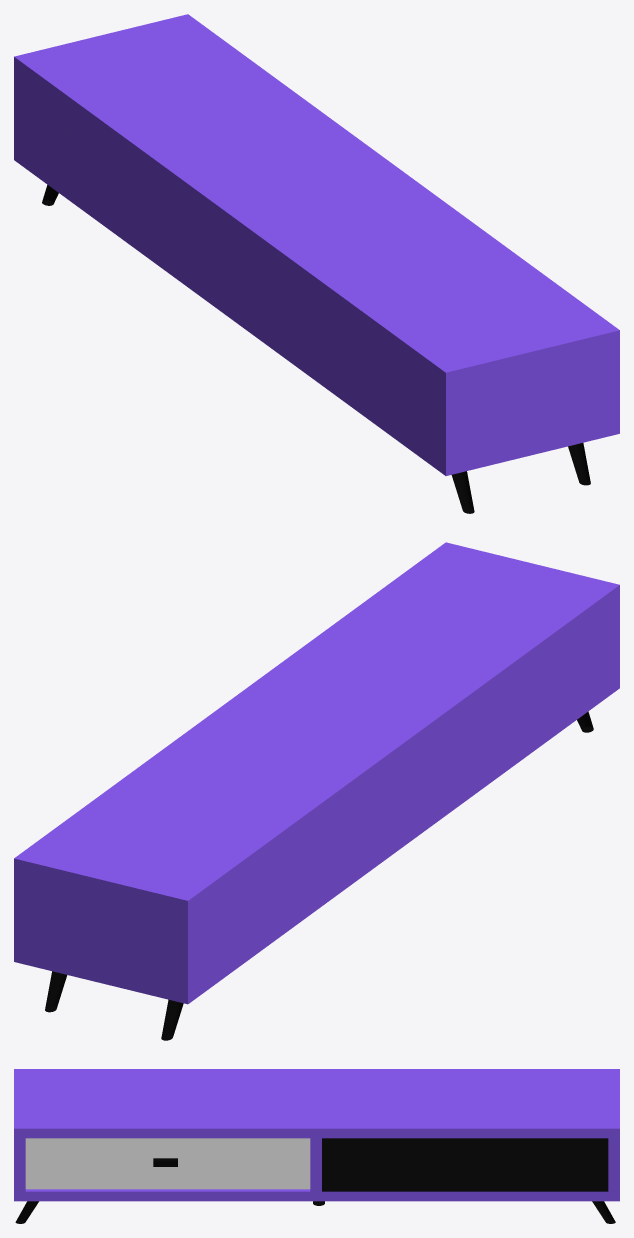
The model's file is tv_table.glb.
3 views of the same model, one above another, from view 1: azimuth 30°, elevation 25°; view 2: azimuth 150°, elevation 25°; view 3: azimuth 270°, elevation 25° (orthographic). The views are drawn at different scales.
Parts seen in each view (by area): view 1: TV table; view 2: TV table; view 3: TV table.
Part boxes in pixels (<box>): TV table: <box>14,14,619,513</box>; TV table: <box>14,542,619,1040</box>; TV table: <box>14,1069,619,1223</box>.
Size of the model in its own units: 0.9108 by 0.7284 by 3.84.
